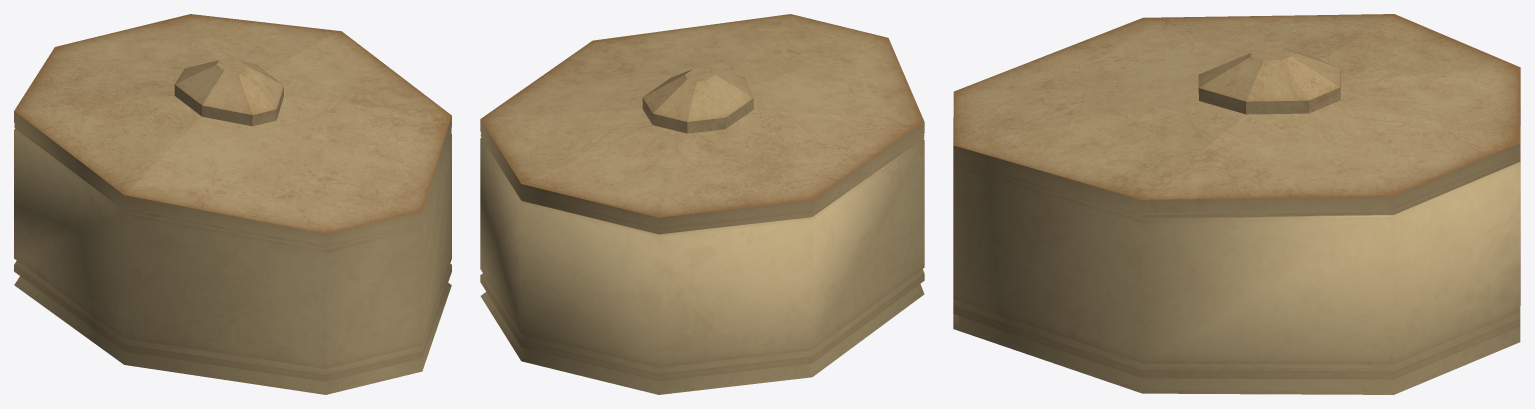
The model's file is avatardz interior.fbx.
The picture shows the model from 3 angles, left to right: view 1: azimuth 30°, elevation 25°; view 2: azimuth 150°, elevation 25°; view 3: azimuth 270°, elevation 25°; orthographic projection. The views are drawn at different scales.
Parts seen in each view (by area): view 1: polySurface1, polySurface2; view 2: polySurface1, polySurface2; view 3: polySurface1, polySurface2.
Boxes of the visible parts, x1,y1,x2,y2 form: polySurface1: (14,111,451,394); polySurface2: (14,14,451,233); polySurface1: (480,119,924,394); polySurface2: (480,14,924,217); polySurface1: (953,107,1520,394); polySurface2: (953,14,1520,199).
Size of the model in its own units: 101 by 64.43 by 132.
2 materials, 2 textured.
